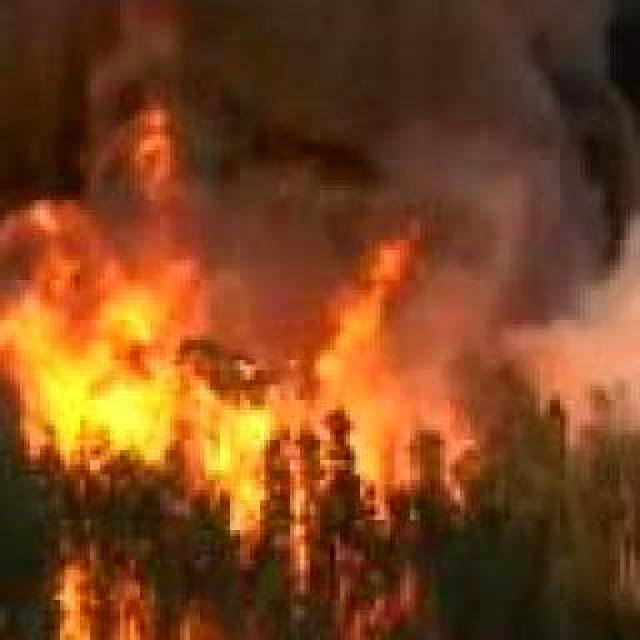fire: (0, 102, 542, 640)
